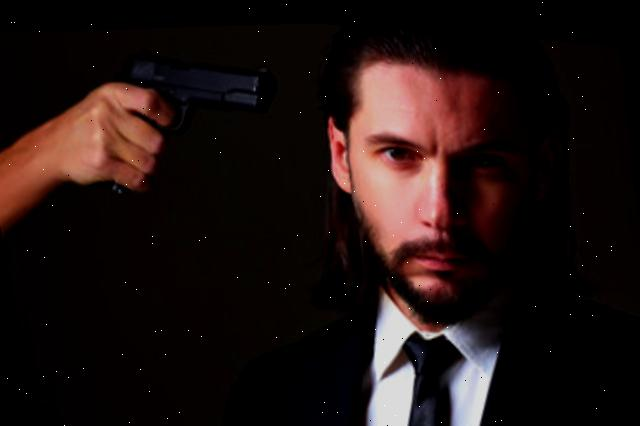pistol: (81, 14, 292, 229), (58, 54, 275, 189)
